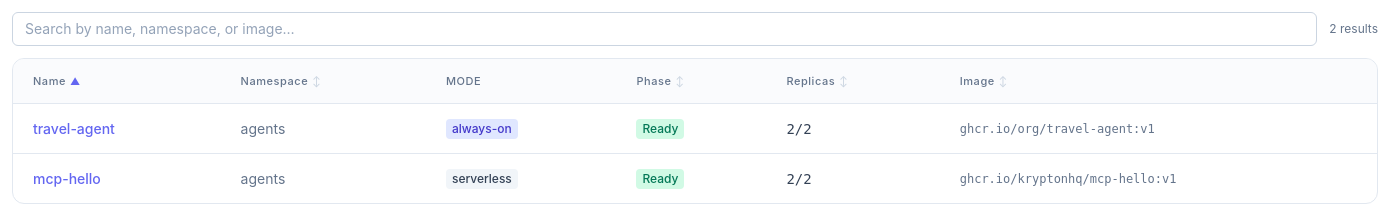
AgentsTable › debounces the search box before querying
Expected: the link "travel-agent" is shown, [33,120,115,136]
Type "travel" into the search field at point(665, 29), box [12,12,1317,46]
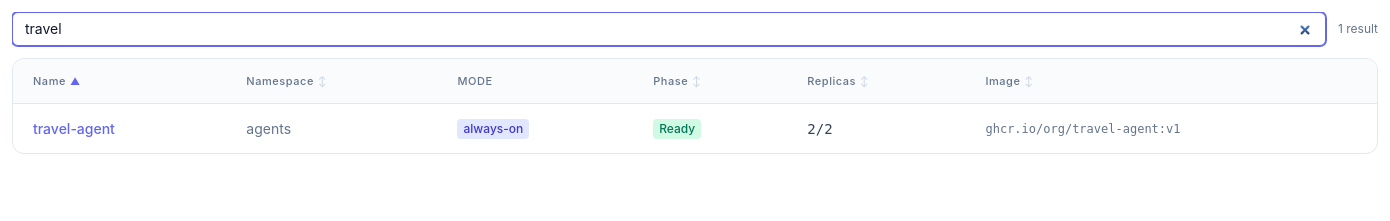
Expected: the link "mcp-hello" is gone
